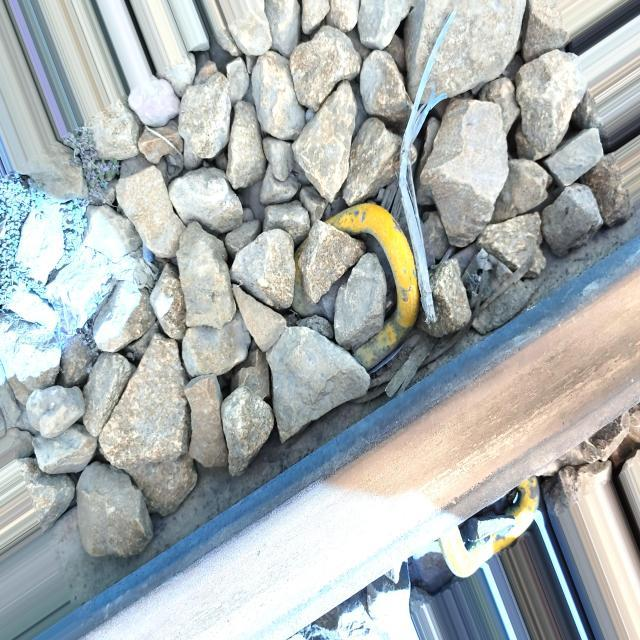Good Fasteners: (292, 203, 420, 346), (439, 477, 540, 577)
